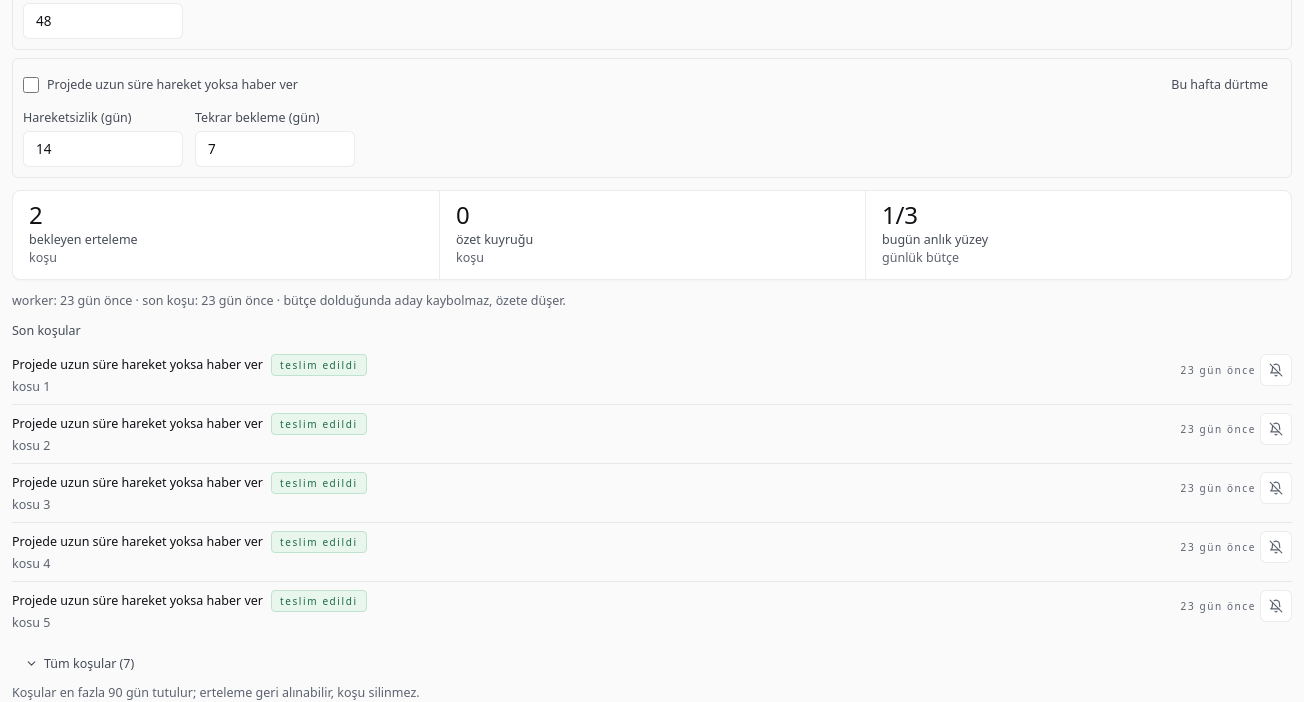
ProactivitySection › uzun kosu gecmisini asamali acilimla sinirlar (kayit kaybi yok)
The width and height of the screenshot is (1304, 702).
(page scrolled)
Expected: the text "Son koşular" is shown, [12,322,81,338]
Expected: the text "kosu 1" is shown, [12,378,50,394]
Step 1. Click the button "Tüm koşular (7)" → (80, 664), box [12,648,147,680]
(page scrolled)
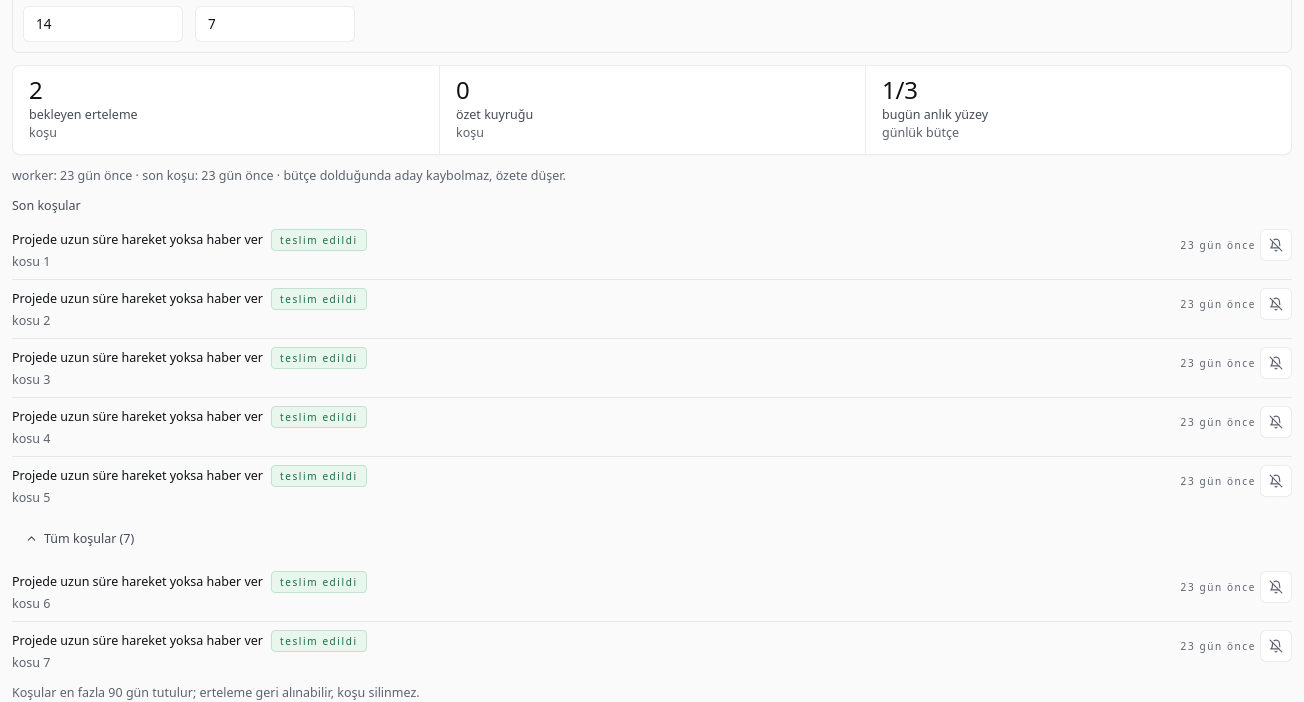
Now the text "kosu 6" is shown, box [12,594,50,612]
Now the text "kosu 7" is shown, box [12,654,50,670]
